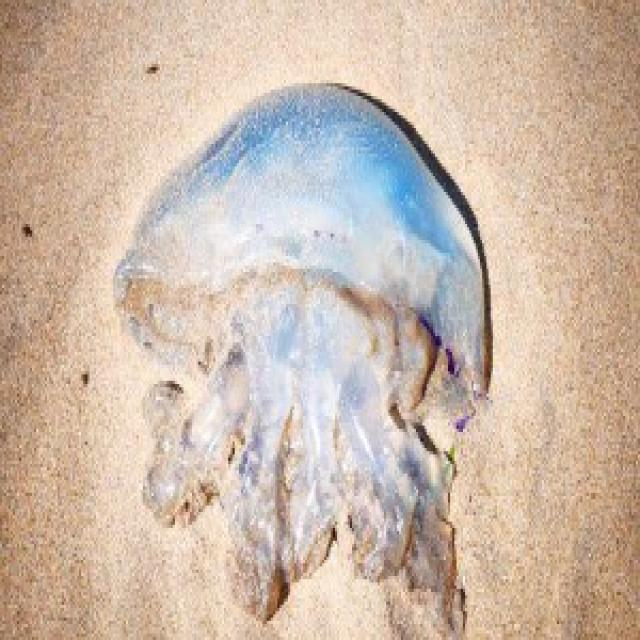Jellyfish: (99, 93, 496, 640)
